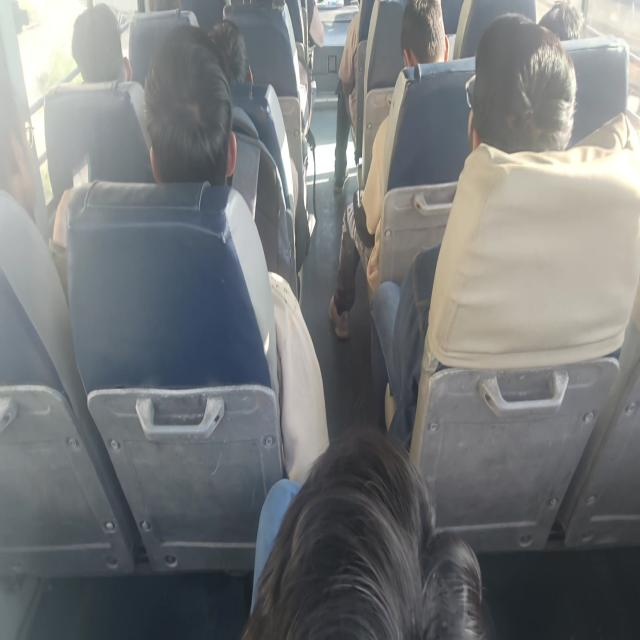person: (51, 22, 329, 483), (369, 11, 578, 450), (241, 426, 488, 638), (328, 0, 448, 339), (332, 0, 362, 194), (71, 3, 132, 83), (537, 0, 583, 41)
